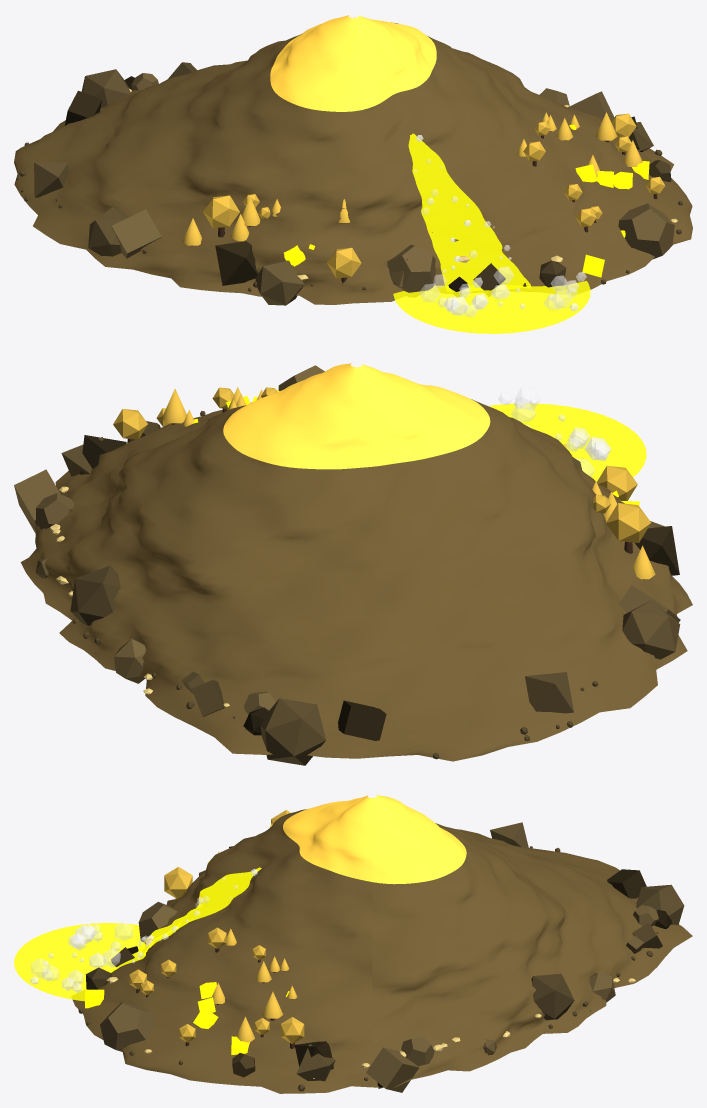
Rendered from montana_10.glb.
3 views of the same model, one above another, from view 1: azimuth 30°, elevation 25°; view 2: azimuth 150°, elevation 25°; view 3: azimuth 270°, elevation 25° (orthographic). The views are drawn at different scales.
Visible parts, largest first — view 1: tierra, cima, rio, poza_agua, roca_14, roca_8, copa (×2), roca_20, roca_4, roca_5, roca_18, roca_17 (+5 smaller); view 2: tierra, cima, poza_agua, roca_17, copa (×3), roca_18, roca_7, roca_25, roca_15, roca_1, roca_4, roca_21 (+5 smaller); view 3: tierra, cima, poza_agua, rio, roca_14, roca_1, roca_7, copa (×2), roca_17, roca_8, roca_22, roca_15 (+4 smaller).
Part boxes in pixels (x1,y1,x2,y2): tierra: (14, 22, 692, 304); cima: (270, 15, 436, 111); rio: (408, 133, 531, 287); poza_agua: (393, 280, 590, 333); roca_14: (618, 203, 674, 259); roca_8: (387, 245, 435, 296); copa (×2): (203, 195, 361, 278); roca_20: (255, 260, 304, 305); roca_4: (215, 241, 258, 285); roca_5: (111, 209, 161, 258); roca_18: (88, 207, 129, 256); roca_17: (81, 69, 130, 107); tierra: (20, 399, 692, 761); cima: (223, 363, 490, 469); poza_agua: (489, 403, 646, 481); roca_17: (260, 698, 326, 765); copa (×3): (113, 409, 650, 543); roca_18: (622, 600, 680, 659); roca_7: (70, 565, 120, 625); roca_25: (525, 672, 573, 713); roca_15: (338, 700, 386, 740); roca_1: (14, 469, 60, 533); roca_4: (635, 526, 679, 575); roca_21: (114, 639, 145, 683); tierra: (72, 809, 692, 1093); cima: (283, 795, 466, 884); poza_agua: (14, 923, 143, 1001); rio: (109, 867, 261, 972); roca_14: (100, 1001, 154, 1051); roca_1: (366, 1047, 419, 1092); roca_7: (531, 973, 574, 1020); copa (×2): (164, 867, 304, 1043); roca_17: (636, 884, 684, 924); roca_8: (138, 901, 177, 941); roca_22: (296, 1044, 335, 1081); roca_15: (607, 869, 646, 898).
Bounding box in the file's own units: 31.81 × 10.74 × 35.99.
